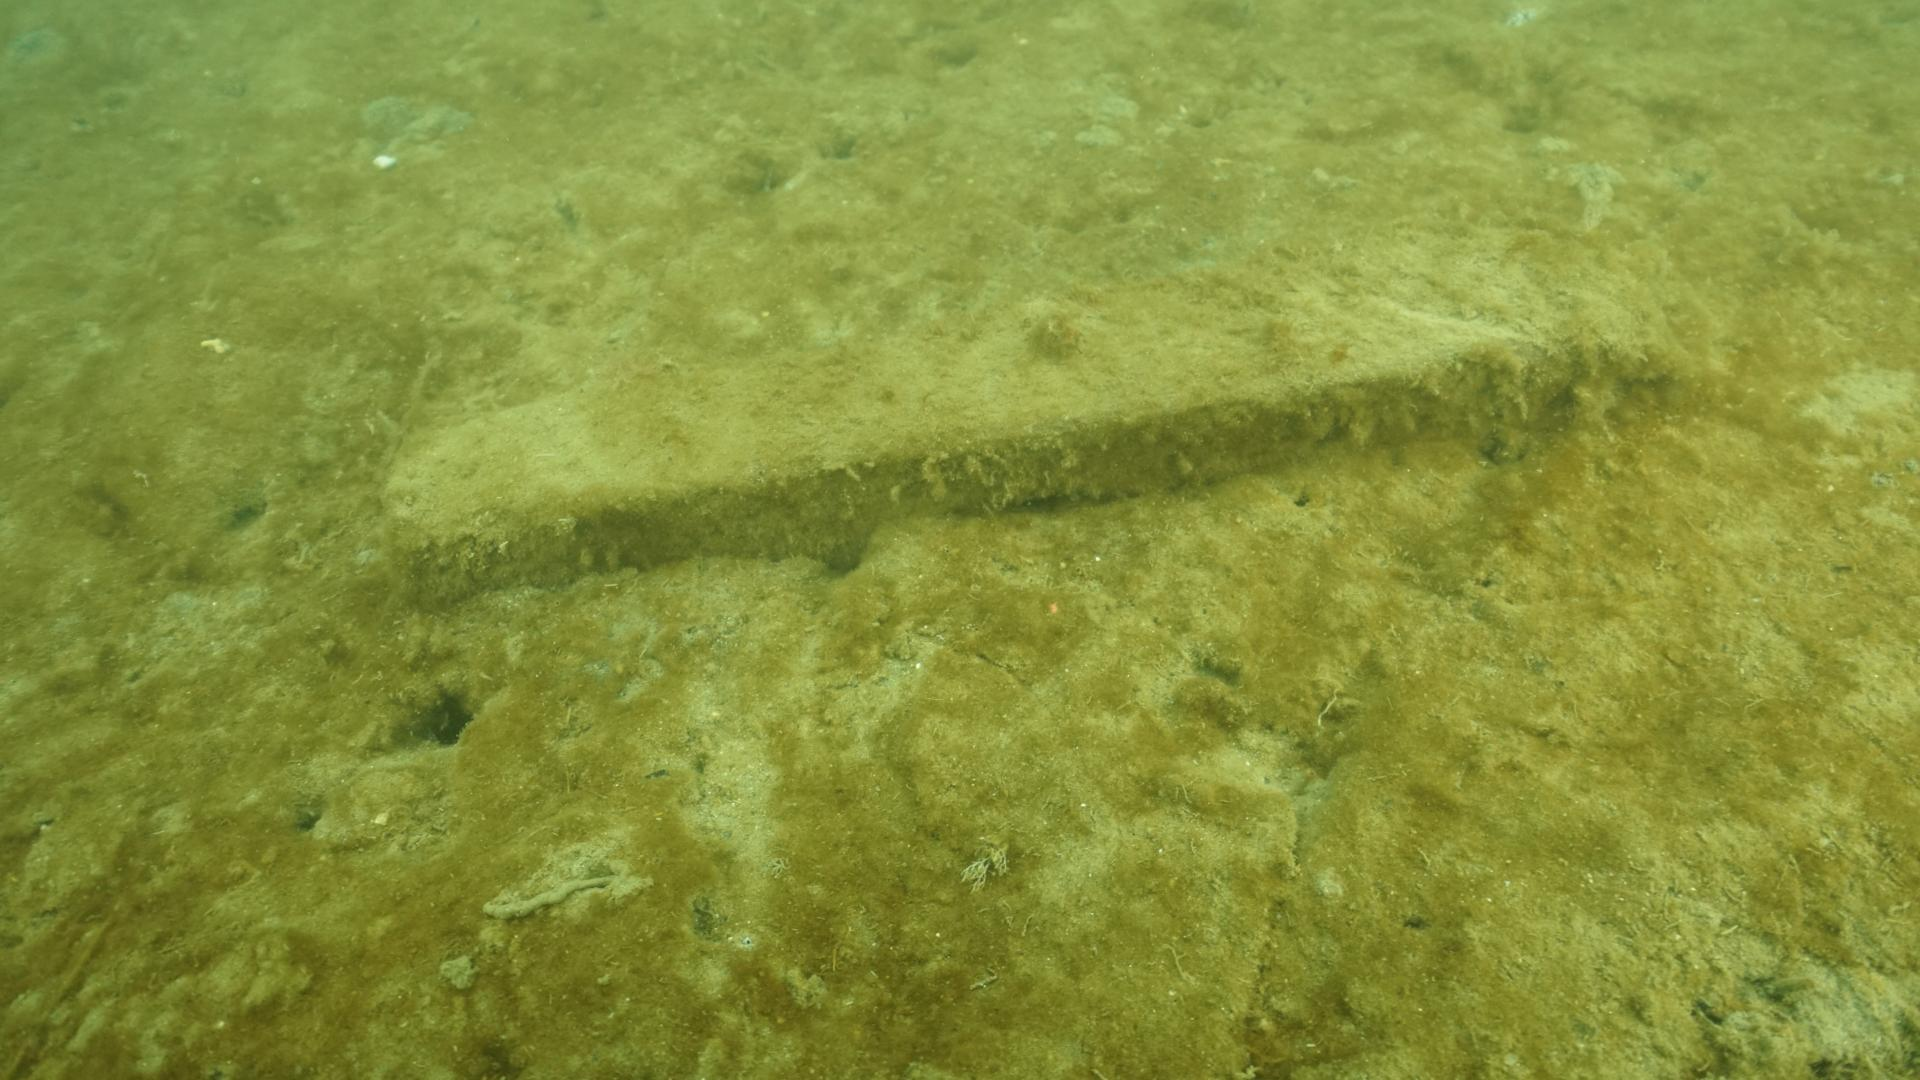wood: (378, 249, 1824, 628)
